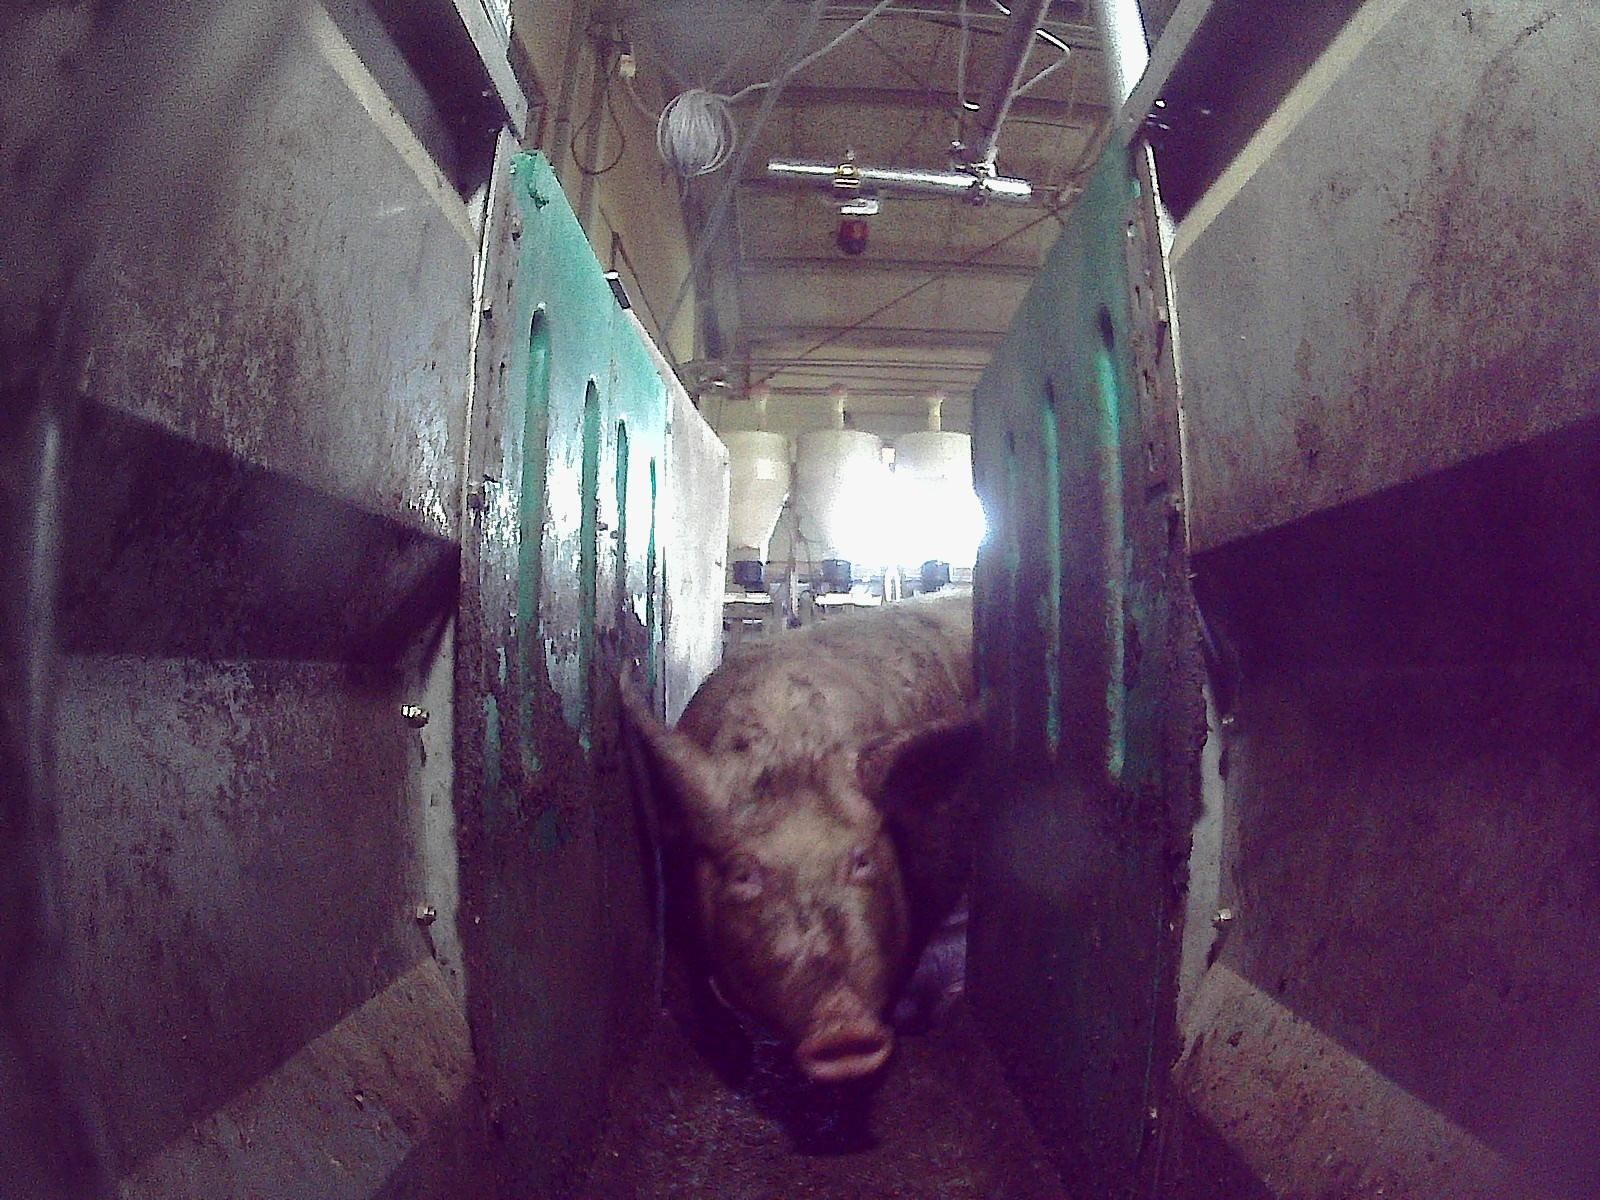Face: (697, 751, 918, 1076)
